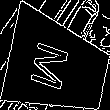M_E: (34, 38, 81, 96)
